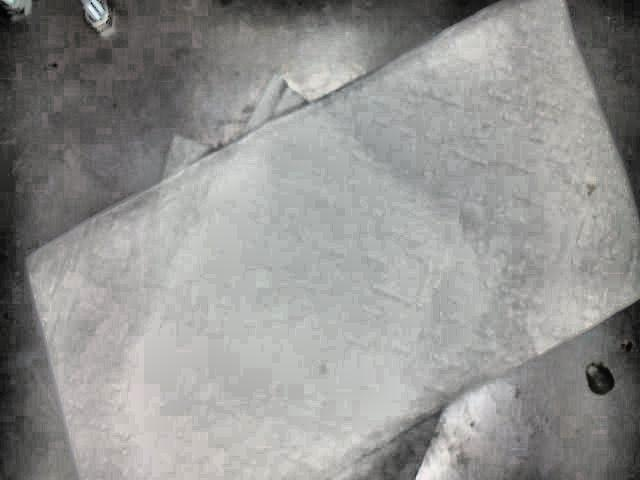Paper: (26, 0, 636, 480)
